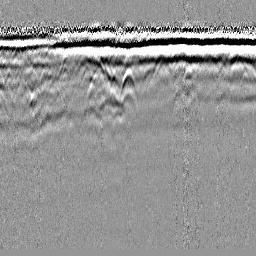cavity: (118, 66, 138, 101)
